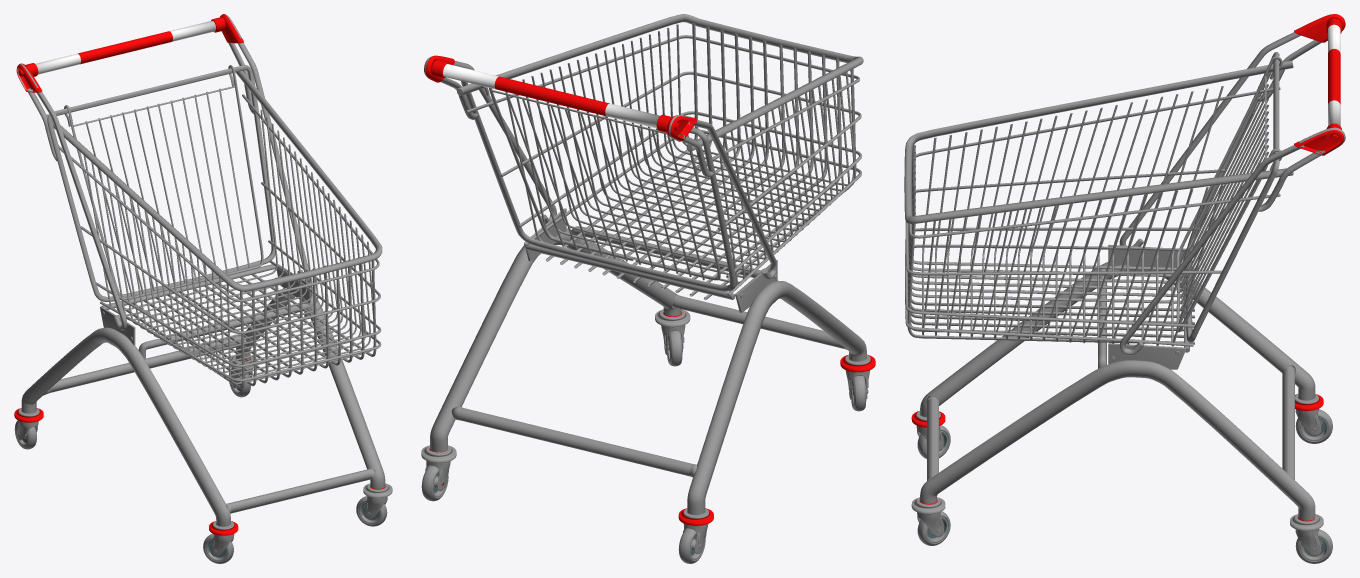
The model's file is cartmodel_v2.fbx.
3 views of the same model, side by side, from view 1: azimuth 30°, elevation 25°; view 2: azimuth 150°, elevation 25°; view 3: azimuth 270°, elevation 25° (orthographic). The views are drawn at different scales.
Parts seen in each view (by area): view 1: polySurface1; view 2: polySurface1; view 3: polySurface1.
Part boxes in pixels (bbox=[...]): polySurface1: bbox=[14, 14, 392, 563]; polySurface1: bbox=[421, 14, 875, 563]; polySurface1: bbox=[904, 14, 1345, 563].
Size of the model in its own units: 58.24 by 87.49 by 80.82.
